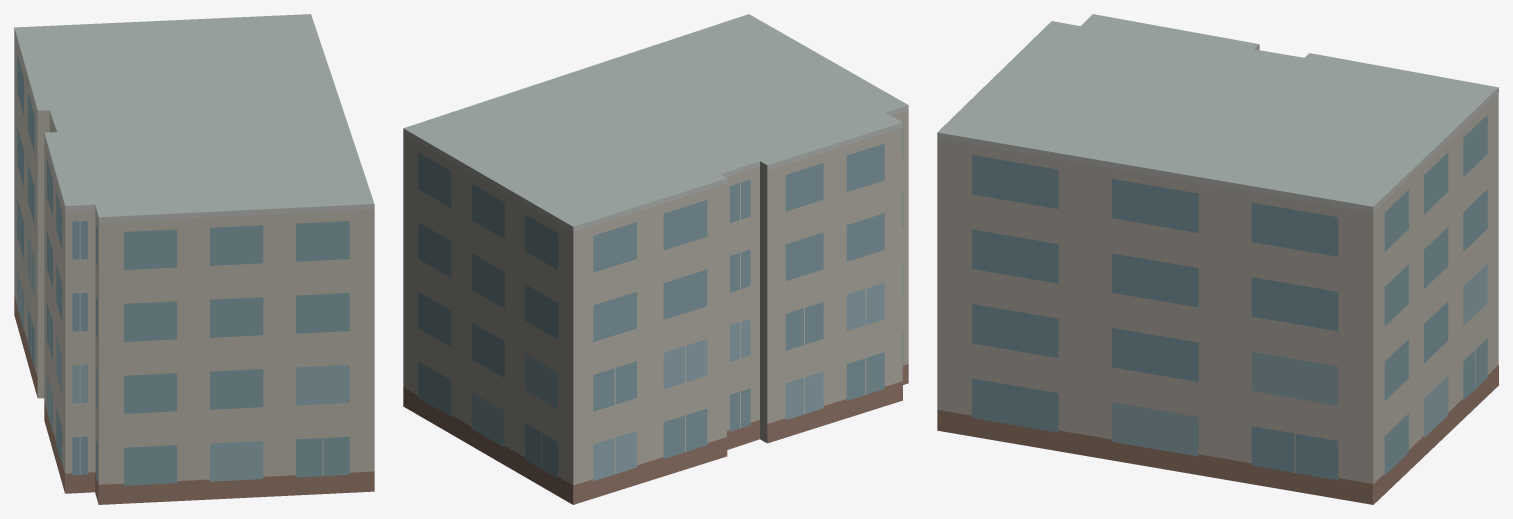
Rendered from survey-upis-32921305.glb.
3 views of the same model, side by side, from view 1: azimuth 30°, elevation 25°; view 2: azimuth 150°, elevation 25°; view 3: azimuth 270°, elevation 25° (orthographic). The views are drawn at different scales.
Visible parts, largest first — view 1: survey-upis-32921305.tmp; view 2: survey-upis-32921305.tmp; view 3: survey-upis-32921305.tmp.
Boxes of the visible parts, x1,y1,x2,y2 form: survey-upis-32921305.tmp: (14, 14, 374, 504); survey-upis-32921305.tmp: (403, 14, 908, 504); survey-upis-32921305.tmp: (937, 14, 1498, 504).
Bounding box in the file's own units: 17.77 × 12.8 × 21.86.
